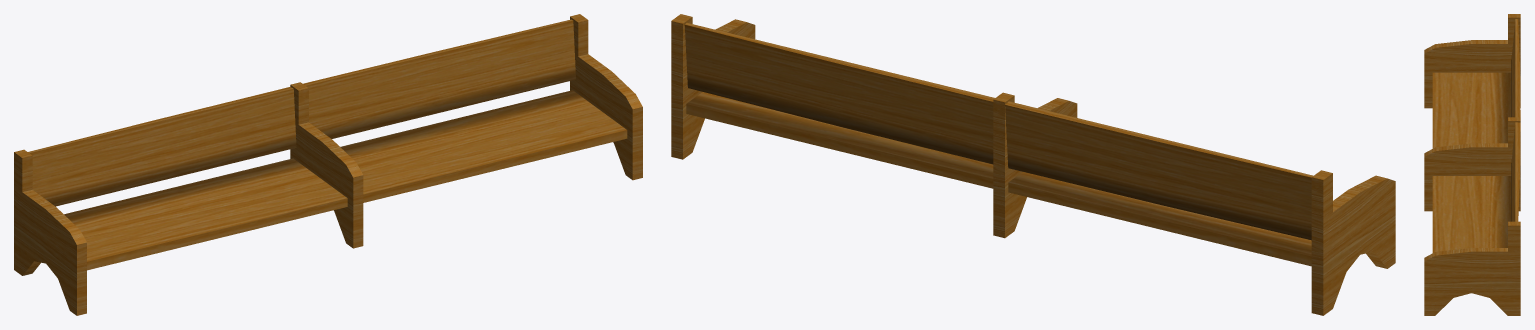
The model's file is Pew.fbx.
The picture shows the model from 3 angles, left to right: view 1: azimuth 30°, elevation 25°; view 2: azimuth 150°, elevation 25°; view 3: azimuth 270°, elevation 25°; orthographic projection. The views are drawn at different scales.
Parts seen in each view (by area): view 1: Pew1; view 2: Pew1; view 3: Pew1.
Part boxes in pixels (x1=…): Pew1: x1=14, y1=14, x2=642, y2=315; Pew1: x1=671, y1=14, x2=1395, y2=315; Pew1: x1=1424, y1=14, x2=1520, y2=315.
Bounding box in the file's own units: 19.31 × 3.84 × 3.71.
